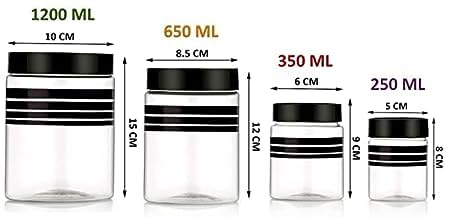1200: (32, 8, 67, 20)
250: (371, 78, 397, 90)
650: (164, 25, 191, 37)
ML: (196, 25, 218, 37), (403, 78, 425, 90), (72, 9, 95, 20)
